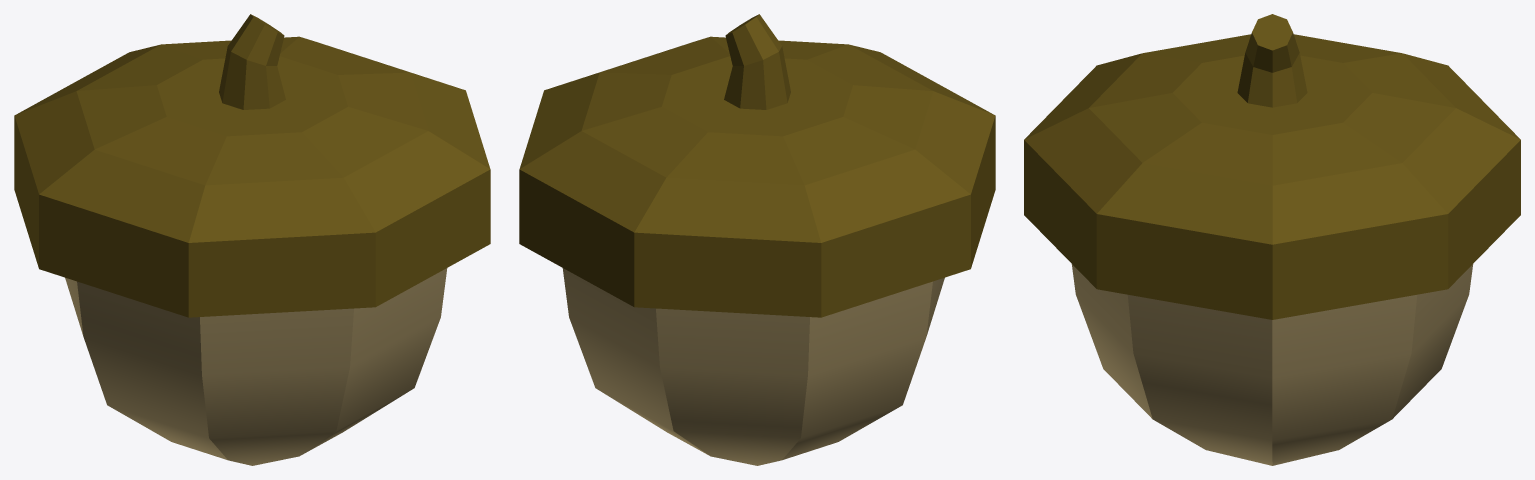
File: SM_Acorn.fbx
The picture shows the model from 3 angles, left to right: view 1: azimuth 30°, elevation 25°; view 2: azimuth 150°, elevation 25°; view 3: azimuth 270°, elevation 25°; orthographic projection.
Parts seen in each view (by area): view 1: pCylinder4; view 2: pCylinder4; view 3: pCylinder4.
Boxes of the visible parts, x1,y1,x2,y2 form: pCylinder4: [14, 14, 490, 465]; pCylinder4: [519, 14, 995, 465]; pCylinder4: [1024, 14, 1520, 465].
Bounding box in the file's own units: 7.08 × 7.11 × 7.08.
